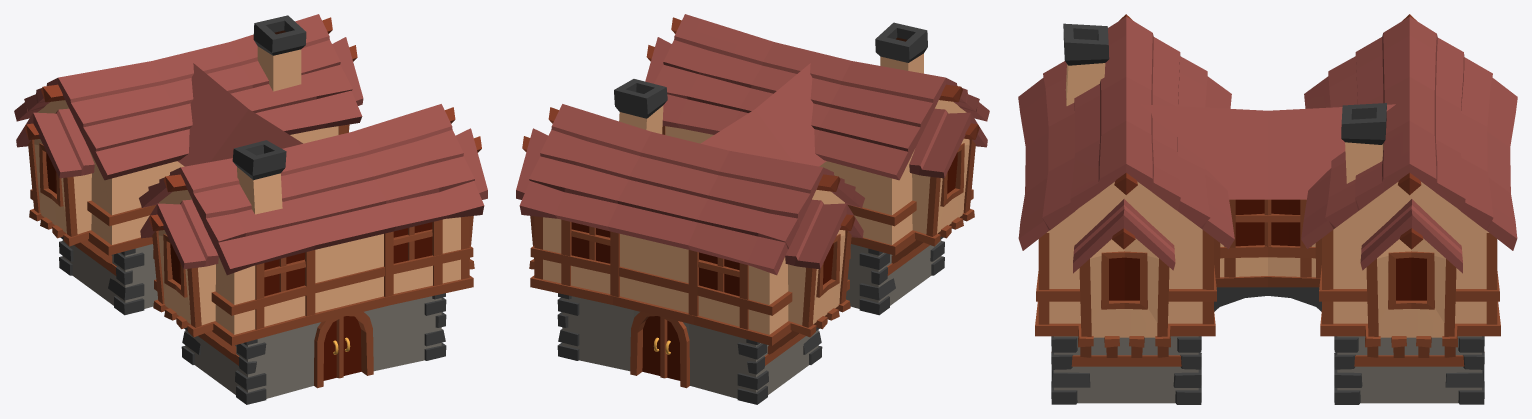
Rendered from House-Medium01.fbx.
3 renders of one model, left to right at view 1: azimuth 30°, elevation 25°; view 2: azimuth 150°, elevation 25°; view 3: azimuth 270°, elevation 25°, orthographic. The views are drawn at different scales.
Visible parts, largest first — view 1: Cube.048, Cube.010, Cube.014, Cube.129, Cube.128; view 2: Cube.048, Cube.010, Cube.014, Cube.128, Cube.129; view 3: Cube.048, Cube.010, Cube.014.
Boxes of the visible parts, x1,y1,x2,y2 form: Cube.048: (14,14,487,275); Cube.010: (28,15,474,398); Cube.014: (59,236,446,404); Cube.129: (163,107,455,192); Cube.128: (41,17,332,102); Cube.048: (516,14,989,275); Cube.010: (529,22,975,398); Cube.014: (557,236,944,404); Cube.128: (548,107,840,191); Cube.129: (671,17,962,102); Cube.048: (1018,16,1517,273); Cube.010: (1035,23,1500,403); Cube.014: (1051,336,1484,404).
Bounding box in the file's own units: 157 × 109 × 179.
